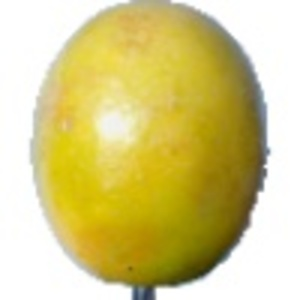maracujá: (30, 1, 273, 300)
